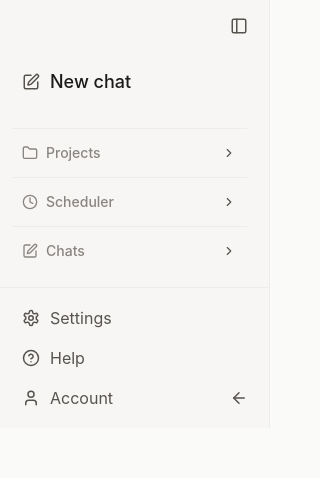
it: Sidebar — Chats scrollbar-gutter correction › (J) clicking the Chats chevron still toggles aria-expanded and reveals/hides the list content — collapse/expand semantics unchanged
Expected: the text "No chats yet" is not shown
Click the button named "Expand Chats" at (229, 251), box [215,237,243,265]
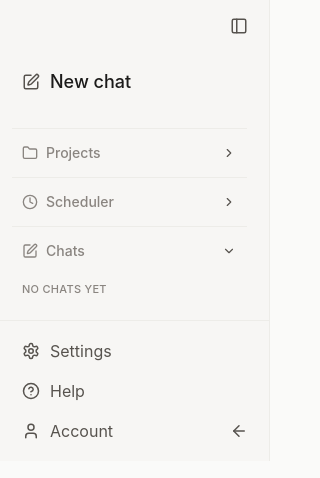
Result: the button named "Collapse Chats" is expanded
Result: the text "No chats yet" is shown at [22,282,107,296]
Click the button named "Collapse Chats" at (229, 251), box [215,237,243,265]
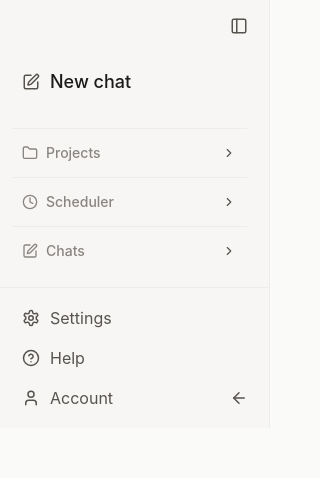
Result: the button named "Expand Chats" is collapsed at [215,237,243,265]
Result: the text "No chats yet" is gone
